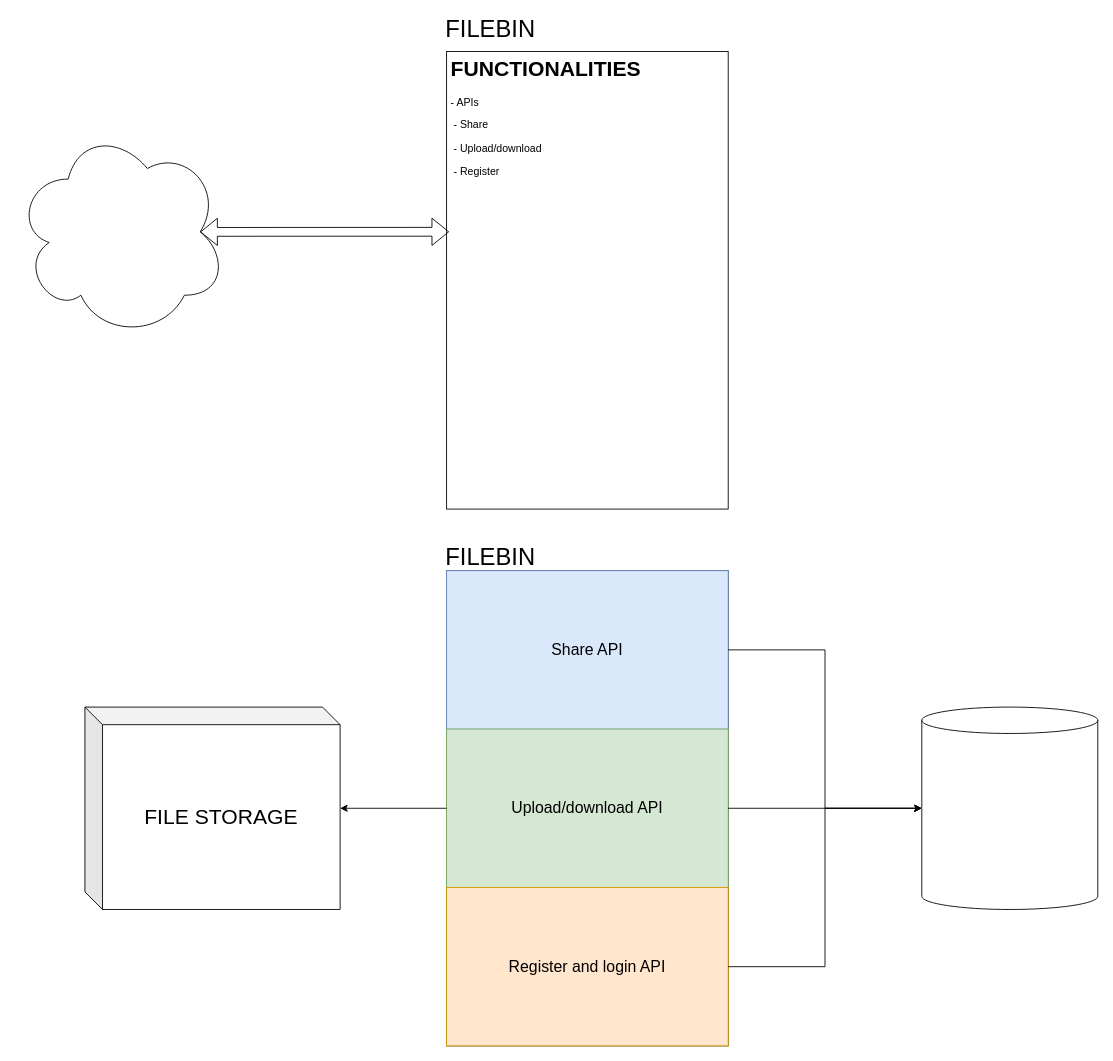
The diagram is 1113 pixels wide and 1061 high, and some of its shapes have lost their labels. Here are the shapes that lost their labels. From the top down, the centre of each, then its label:
At (x=121, y=231): "USERS".
At (x=1009, y=807): "Singular MSSQL server".
